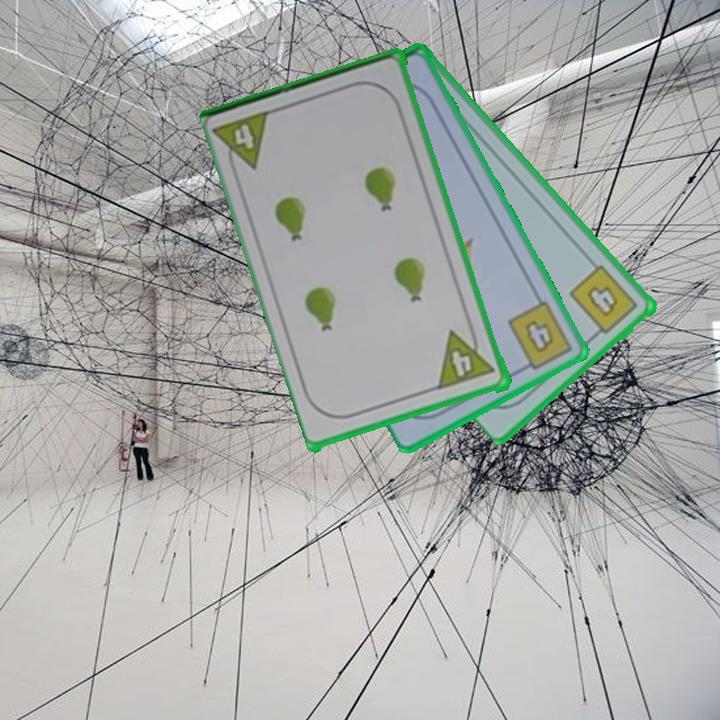4b: (566, 261, 642, 342), (504, 297, 576, 375)
4p: (212, 107, 276, 179), (435, 323, 499, 392)
